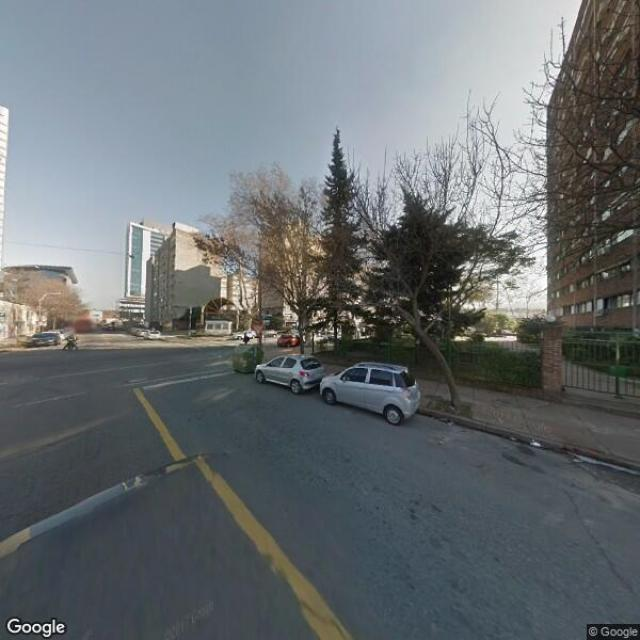garbage container: (225, 338, 269, 379)
